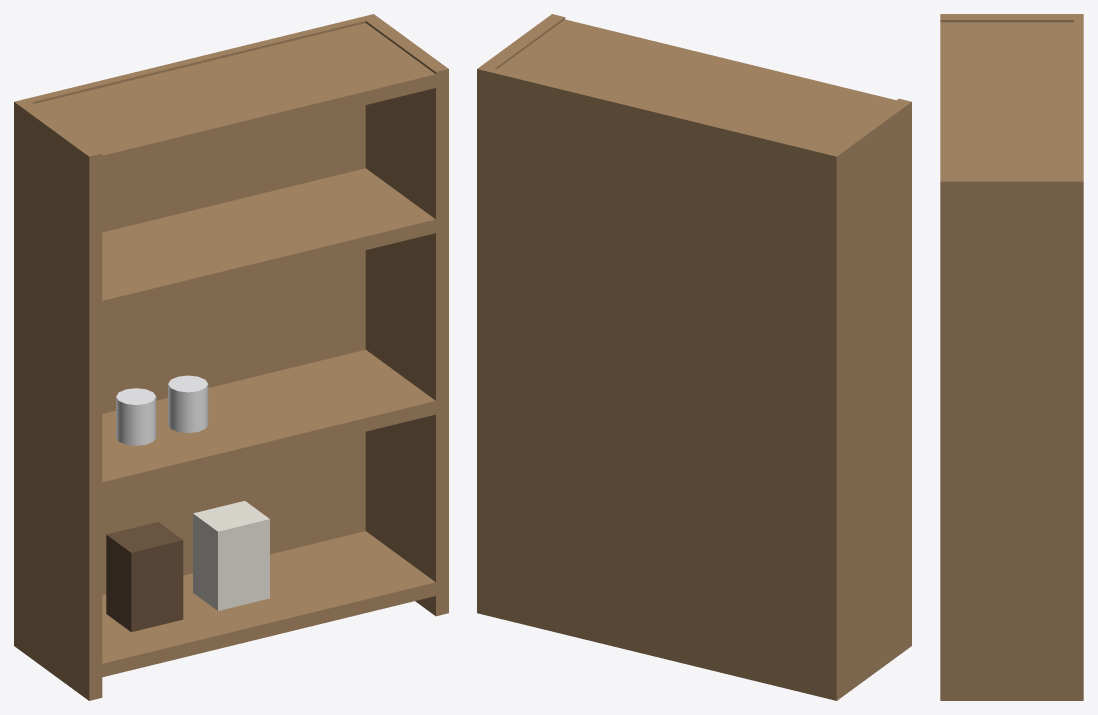
Rendered from RetailShelf.glb.
3 renders of one model, left to right at view 1: azimuth 30°, elevation 25°; view 2: azimuth 150°, elevation 25°; view 3: azimuth 270°, elevation 25°, orthographic. The views are drawn at different scales.
Parts seen in each view (by area): view 1: RetailShelf; view 2: RetailShelf; view 3: RetailShelf.
Boxes of the visible parts, box(x1,y1,x2,y2) form: RetailShelf: box(14, 14, 448, 700); RetailShelf: box(477, 14, 911, 700); RetailShelf: box(940, 14, 1083, 700).
Bounding box in the file's own units: 0.83 × 1.2 × 0.3.
